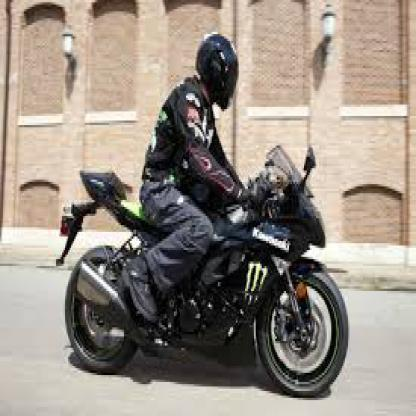Motorcycle: (60, 155, 348, 395)
